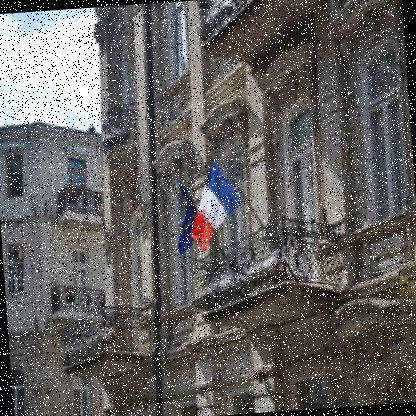fr: (182, 160, 247, 257)
